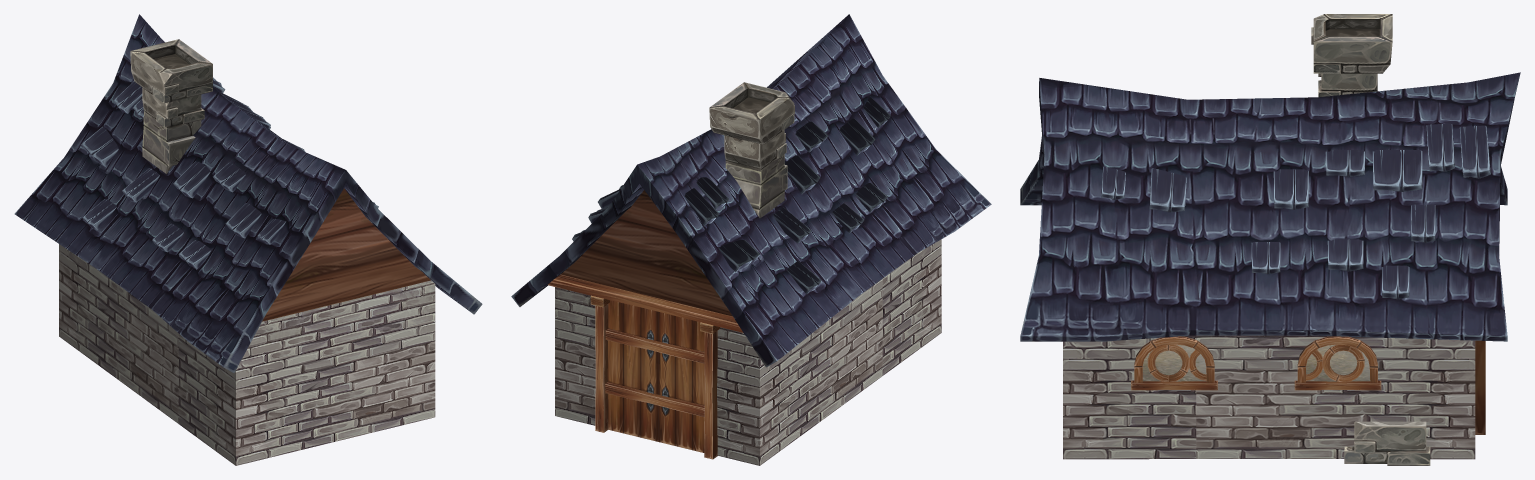
Rendered from pingminfang01.fbx.
3 renders of one model, left to right at view 1: azimuth 30°, elevation 25°; view 2: azimuth 150°, elevation 25°; view 3: azimuth 270°, elevation 25°, orthographic. The views are drawn at different scales.
Parts seen in each view (by area): view 1: 对象003; view 2: 对象003; view 3: 对象003.
Part boxes in pixels (x1,y1,x2,y2): 对象003: [14, 14, 482, 465]; 对象003: [511, 14, 991, 465]; 对象003: [1020, 14, 1520, 465].
Bounding box in the file's own units: 55.33 × 61.76 × 79.4.
1 material, 1 textured.
